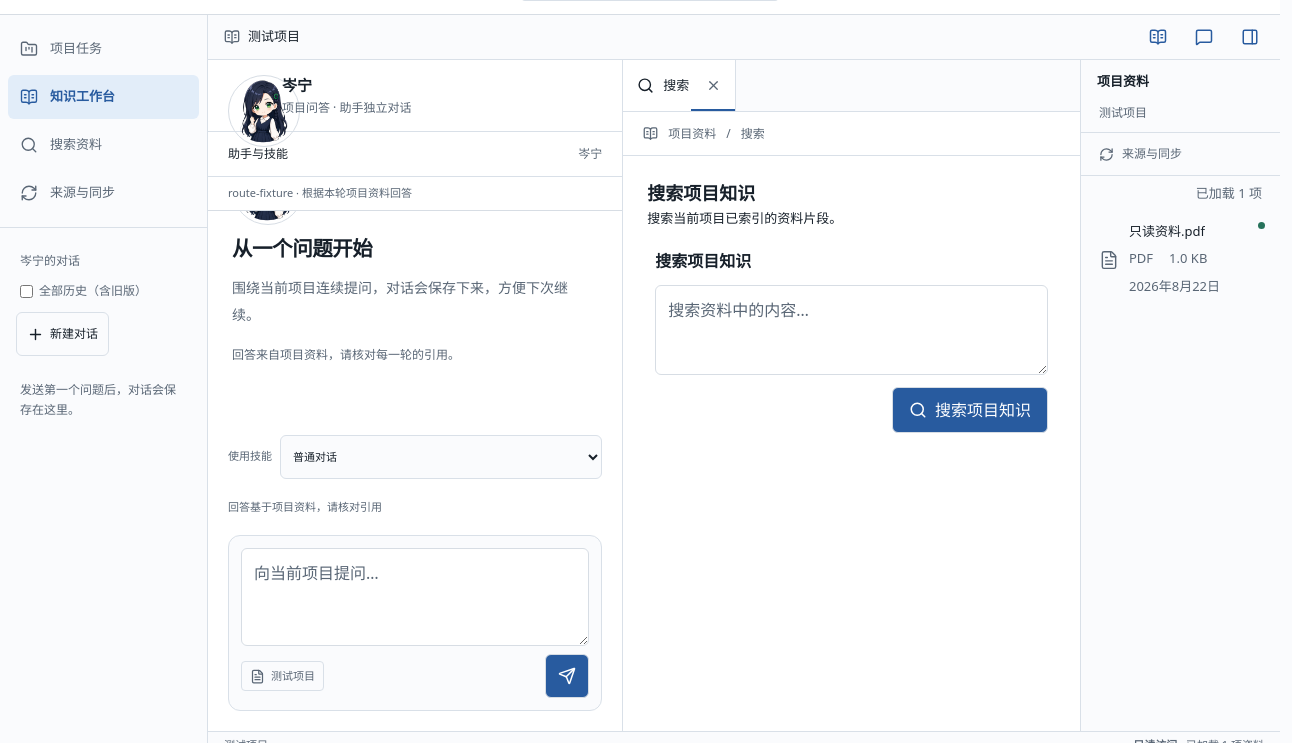
Test: a read-only project reader can search real project knowledge
(page scrolled)
Type "只读检索" into the text box labelled "搜索项目知识" at (852, 330), box 655,285 -> 1048,375
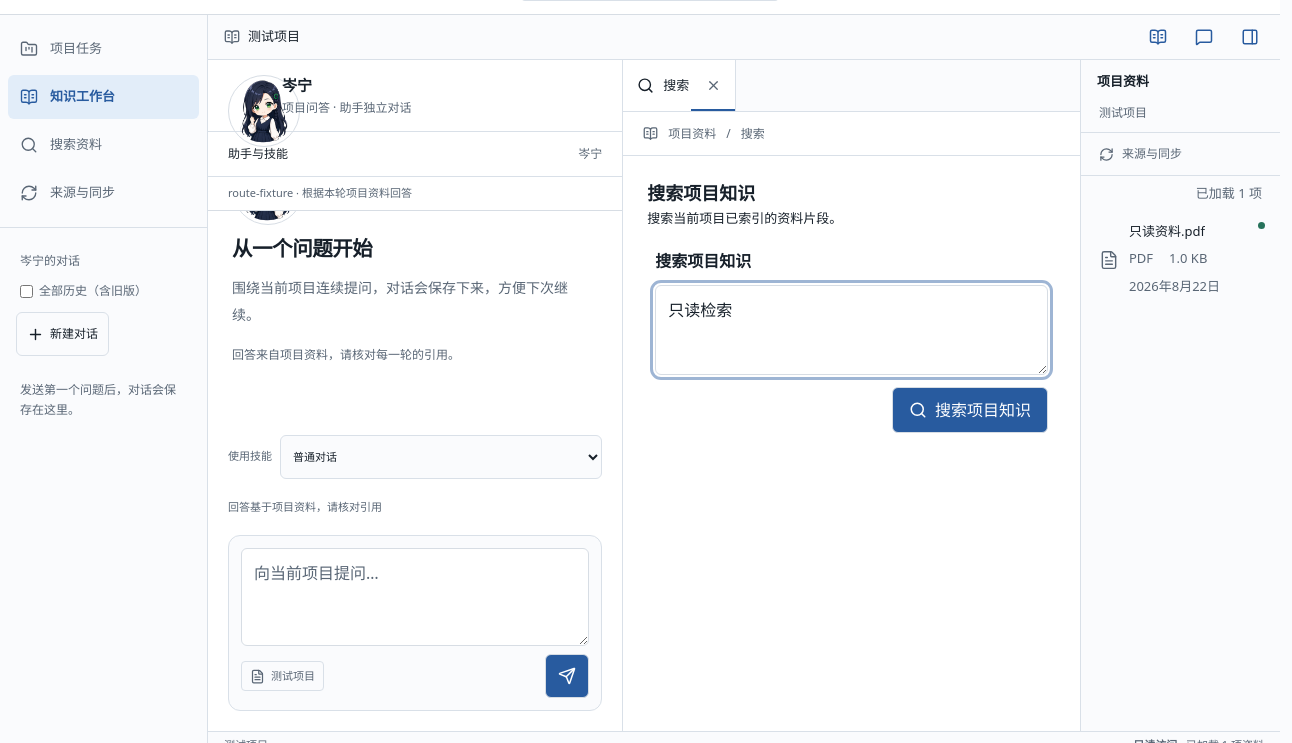
Click the button "搜索项目知识" at (970, 410), box 892,387 -> 1048,433
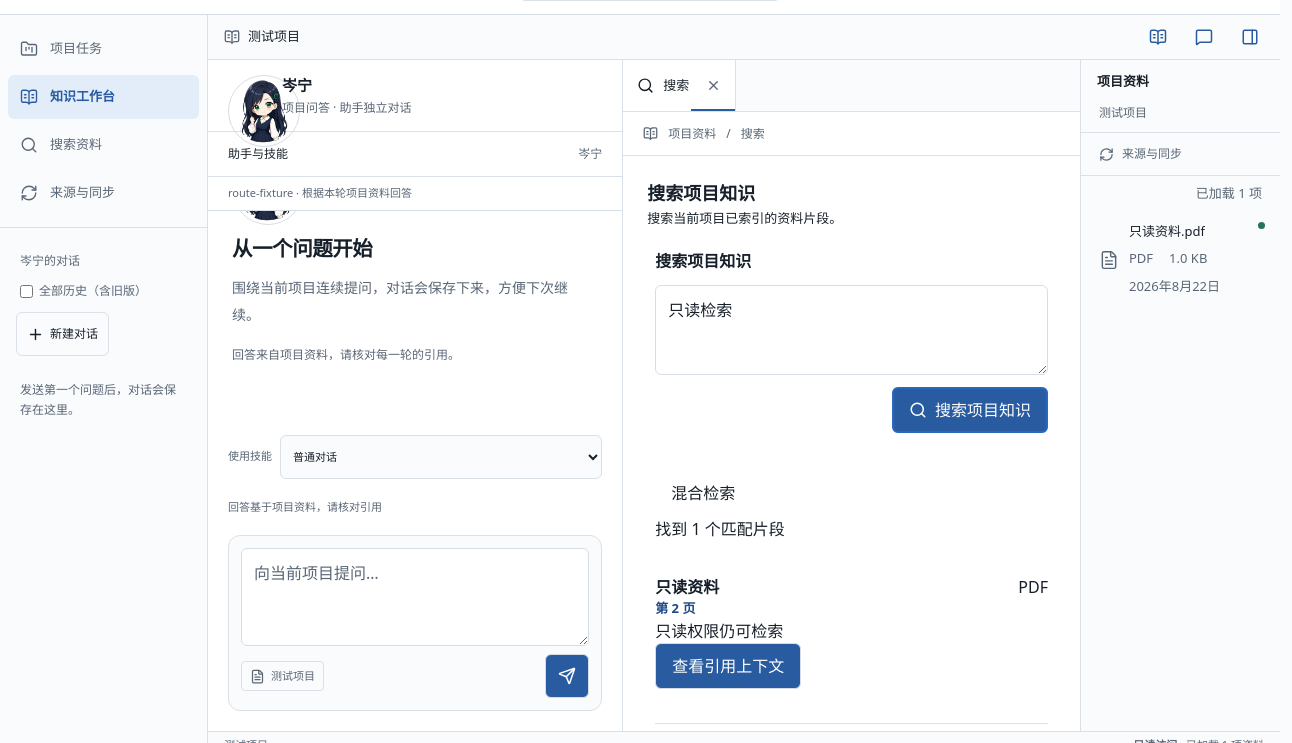
Result: the text "只读权限仍可检索" is shown at 655,620 -> 783,642
Click the button "查看引用上下文" at (728, 666), box 655,643 -> 801,689
(page scrolled)
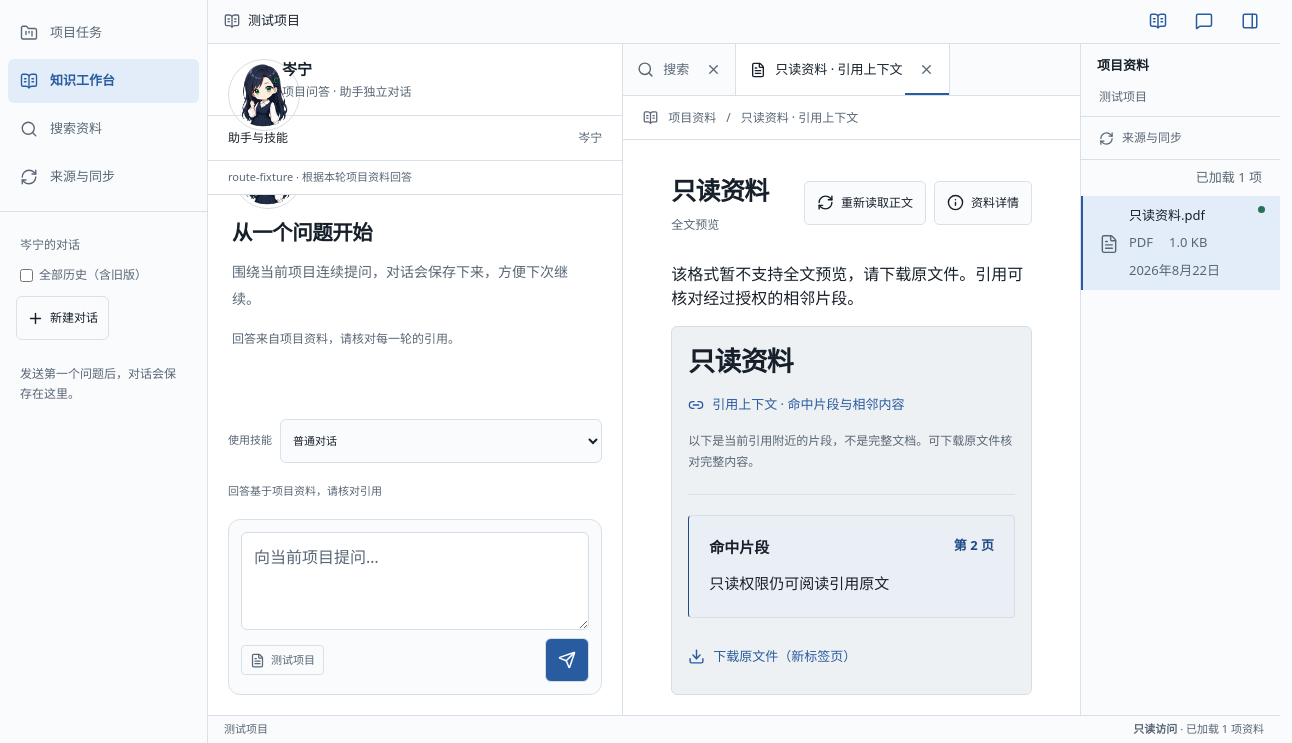
Expected: the text "只读访问" is shown, 1133,721 -> 1177,736
Result: the text "只读权限仍可阅读引用原文" is shown at 709,573 -> 889,593
